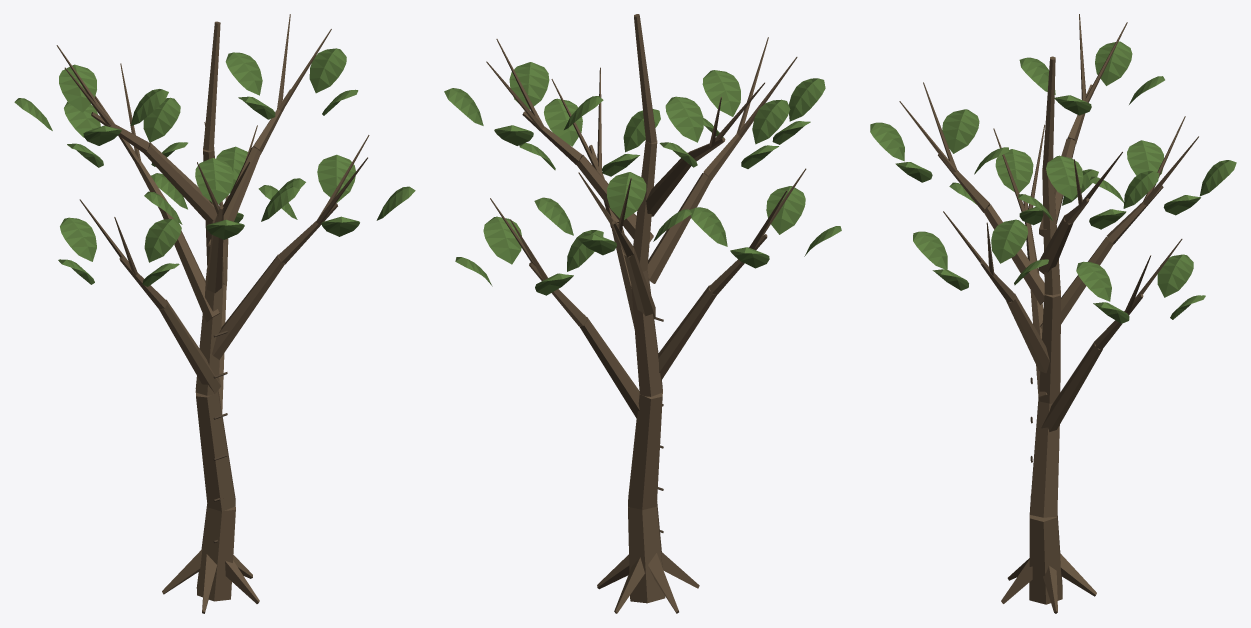
File: apple_young.glb
The picture shows the model from 3 angles, left to right: view 1: azimuth 30°, elevation 25°; view 2: azimuth 150°, elevation 25°; view 3: azimuth 270°, elevation 25°; orthographic projection. The views are drawn at different scales.
Visible parts, largest first — view 1: branches, leaves; view 2: branches, leaves; view 3: branches, leaves.
Boxes of the visible parts, box(x1,y1,x2,y2) form: branches: box(56, 14, 369, 613); leaves: box(14, 48, 415, 286); branches: box(486, 14, 806, 613); leaves: box(444, 62, 841, 295); branches: box(899, 14, 1198, 613); leaves: box(870, 41, 1236, 323).
Bounding box in the file's own units: 0.98 × 1.6 × 0.98.
